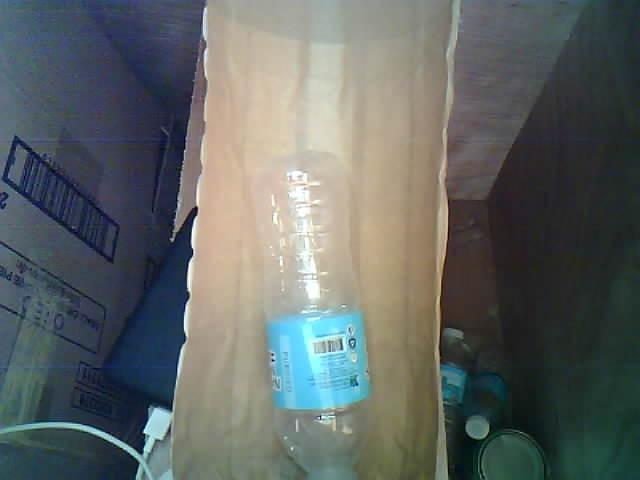small_bottle: (240, 146, 388, 480)
